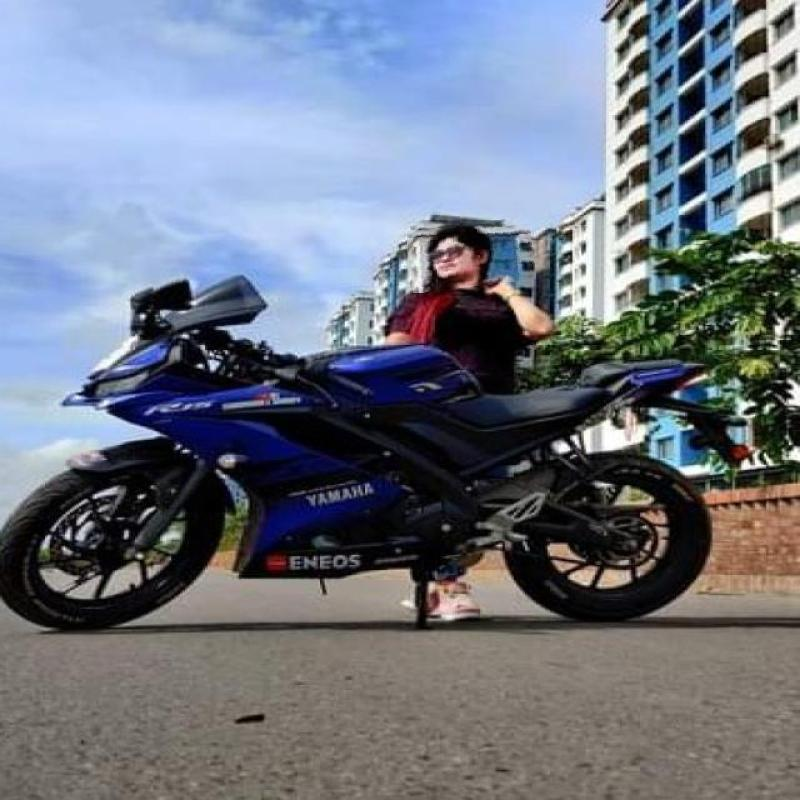nohelmet: (408, 219, 534, 290)
